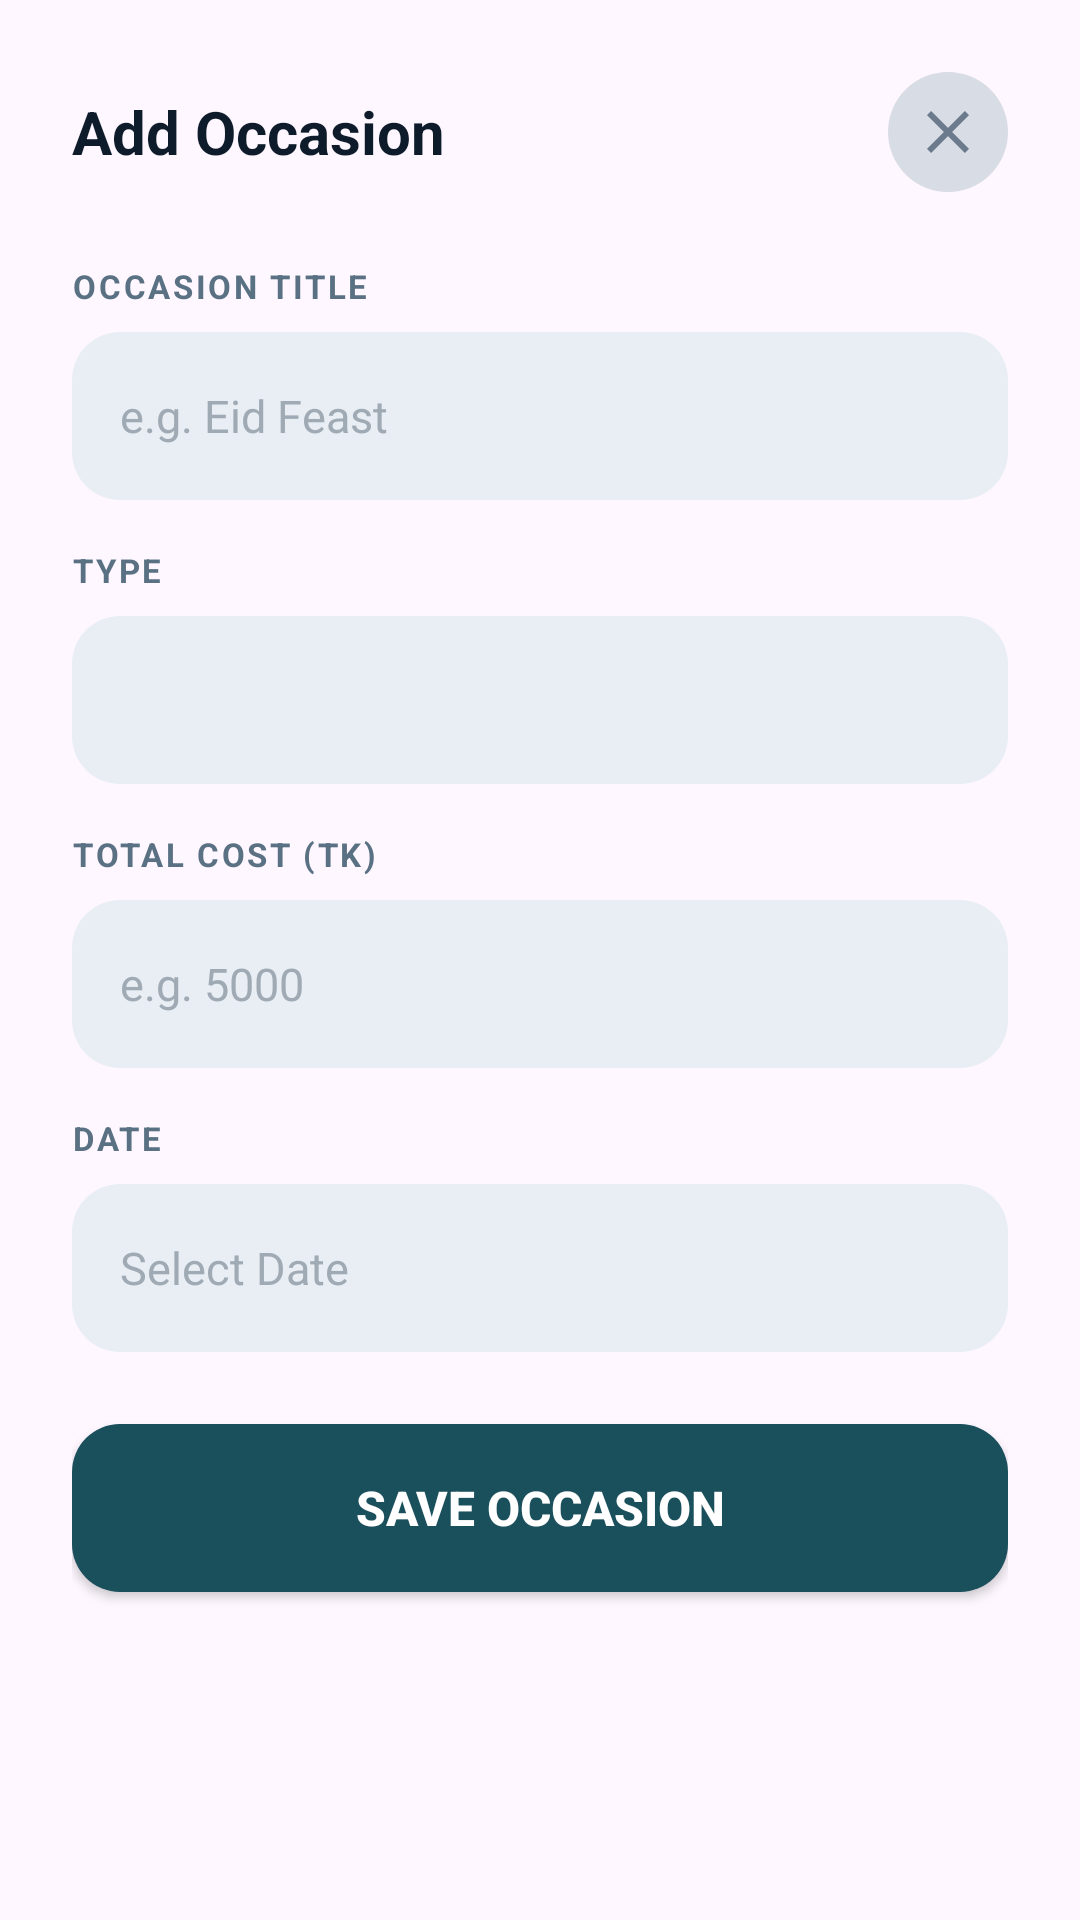

Where to tap for icons on this 1080w x 1920h app screen, as point (x, y):
Close: point (948, 132)
